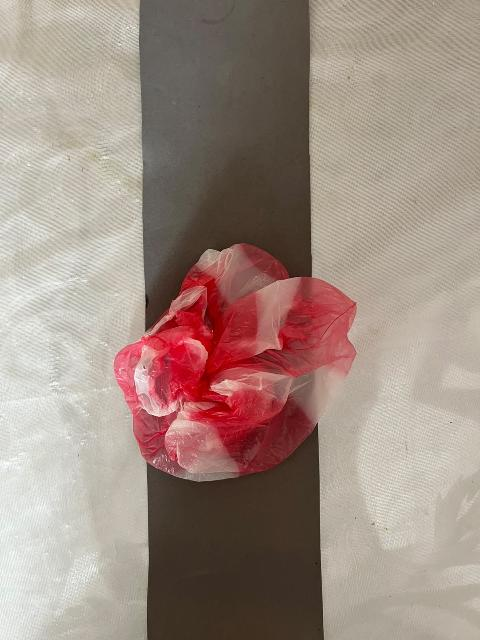LDPE: (89, 213, 381, 507)
